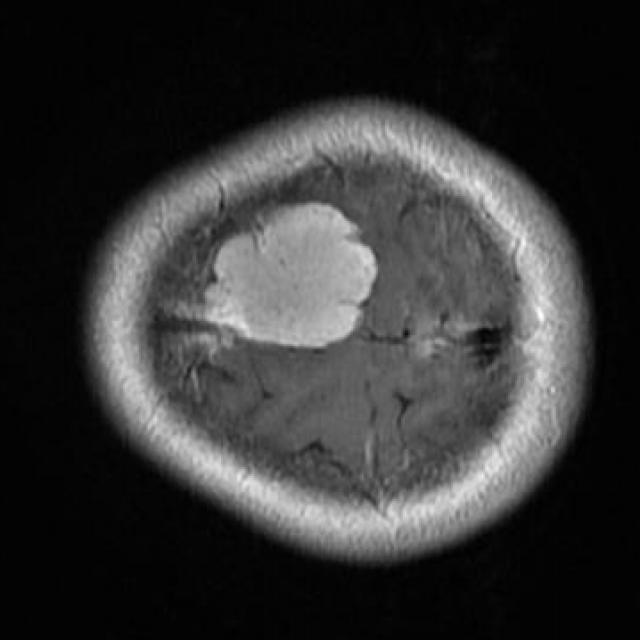meningioma: (205, 203, 376, 349)
